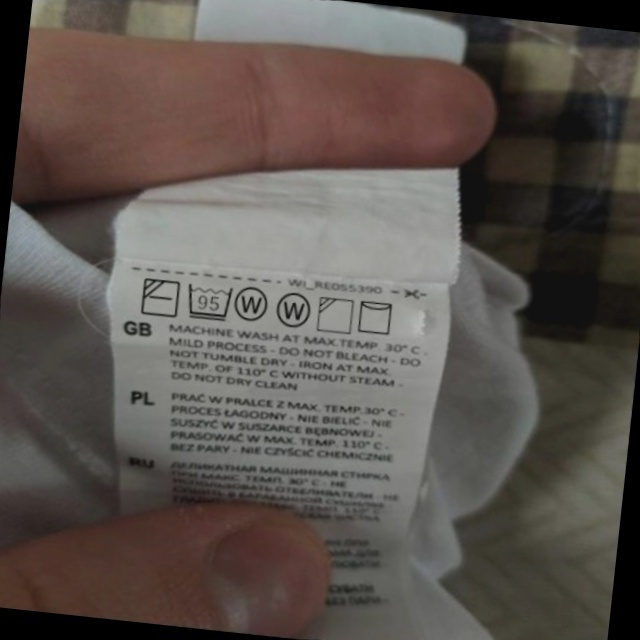95C: (180, 276, 238, 326)
dry_flat_in_shade: (135, 271, 185, 323)
line_dry: (352, 293, 400, 341)
shade_dry: (312, 291, 360, 339)
wet_clean: (271, 287, 317, 335), (230, 278, 275, 327)
